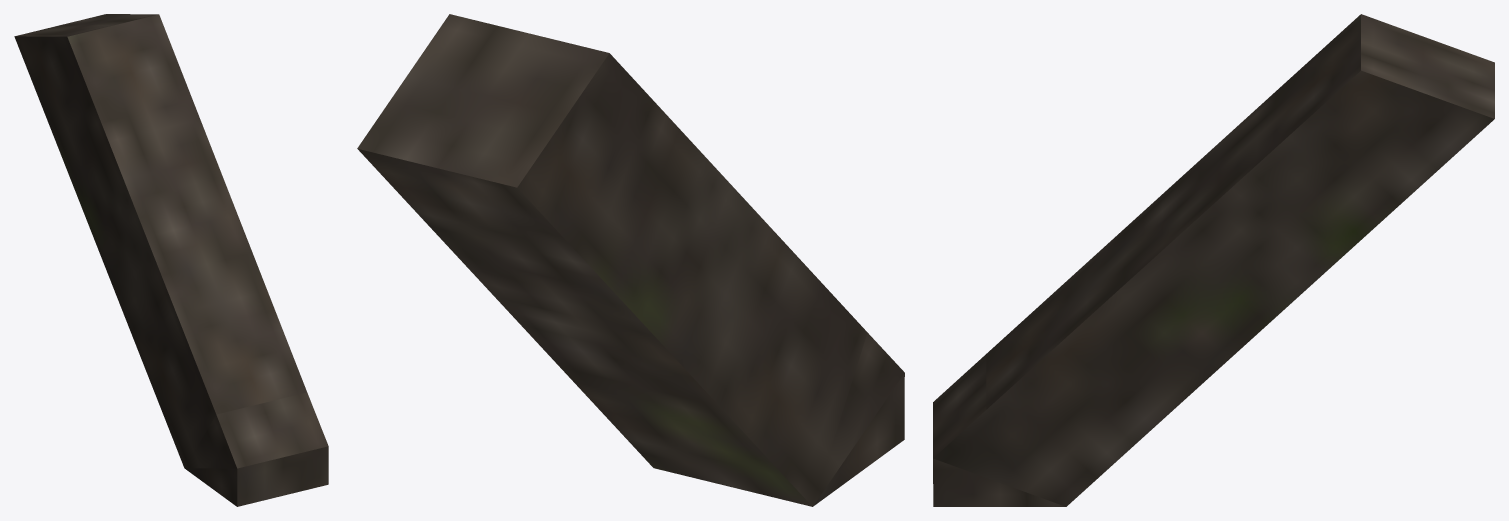
The model's file is spruce_thin_branch_45_straight.obj.
The picture shows the model from 3 angles, left to right: view 1: azimuth 30°, elevation 25°; view 2: azimuth 150°, elevation 25°; view 3: azimuth 270°, elevation 25°; orthographic projection. The views are drawn at different scales.
Parts seen in each view (by area): view 1: cube; view 2: cube; view 3: cube.
Part boxes in pixels (left/top/right/bottom): cube: left=14, top=14, right=328, bottom=506; cube: left=357, top=14, right=904, bottom=506; cube: left=933, top=14, right=1494, bottom=506.
Size of the model in its own units: 0.3125 by 1.12 by 1.31.
